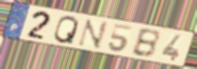2: (24, 10, 53, 42)
4: (159, 34, 183, 63)
5: (107, 22, 133, 54)
B: (129, 28, 161, 59)
N: (75, 18, 110, 51)
Q: (52, 15, 81, 46)
